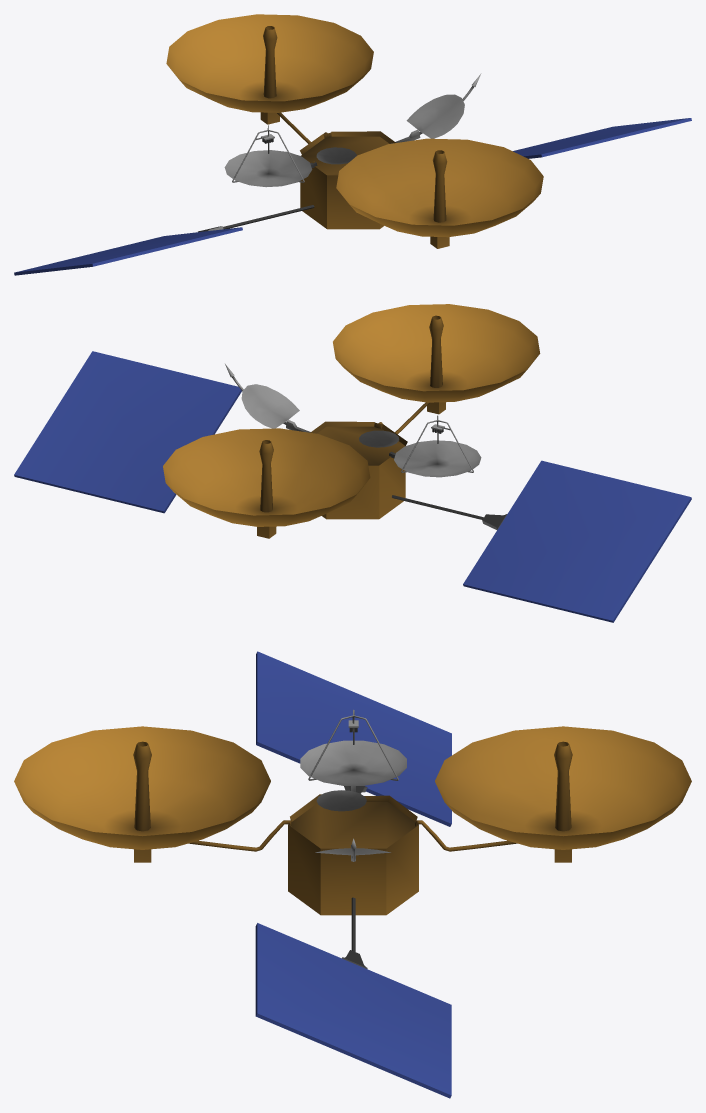
The model's file is space-satellites-communications-satellite_v1.glb.
3 renders of one model, top to bottom at view 1: azimuth 30°, elevation 25°; view 2: azimuth 150°, elevation 25°; view 3: azimuth 270°, elevation 25°, orthographic. The views are drawn at different scales.
Visible parts, largest first — view 1: Communications Satellite_v1, Communications Satellite_v1.001; view 2: Communications Satellite_v1.001, Communications Satellite_v1; view 3: Communications Satellite_v1, Communications Satellite_v1.001.
Part boxes in pixels (x1,y1,x2,y2): Communications Satellite_v1: (166, 14, 543, 248); Communications Satellite_v1.001: (14, 118, 691, 275); Communications Satellite_v1.001: (14, 351, 691, 622); Communications Satellite_v1: (163, 304, 540, 538); Communications Satellite_v1: (14, 709, 691, 968); Communications Satellite_v1.001: (255, 651, 451, 1098).
Bounding box in the file's own units: 12 × 2.7 × 9.5.
